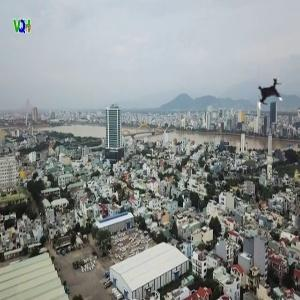drone: (252, 76, 291, 115)
